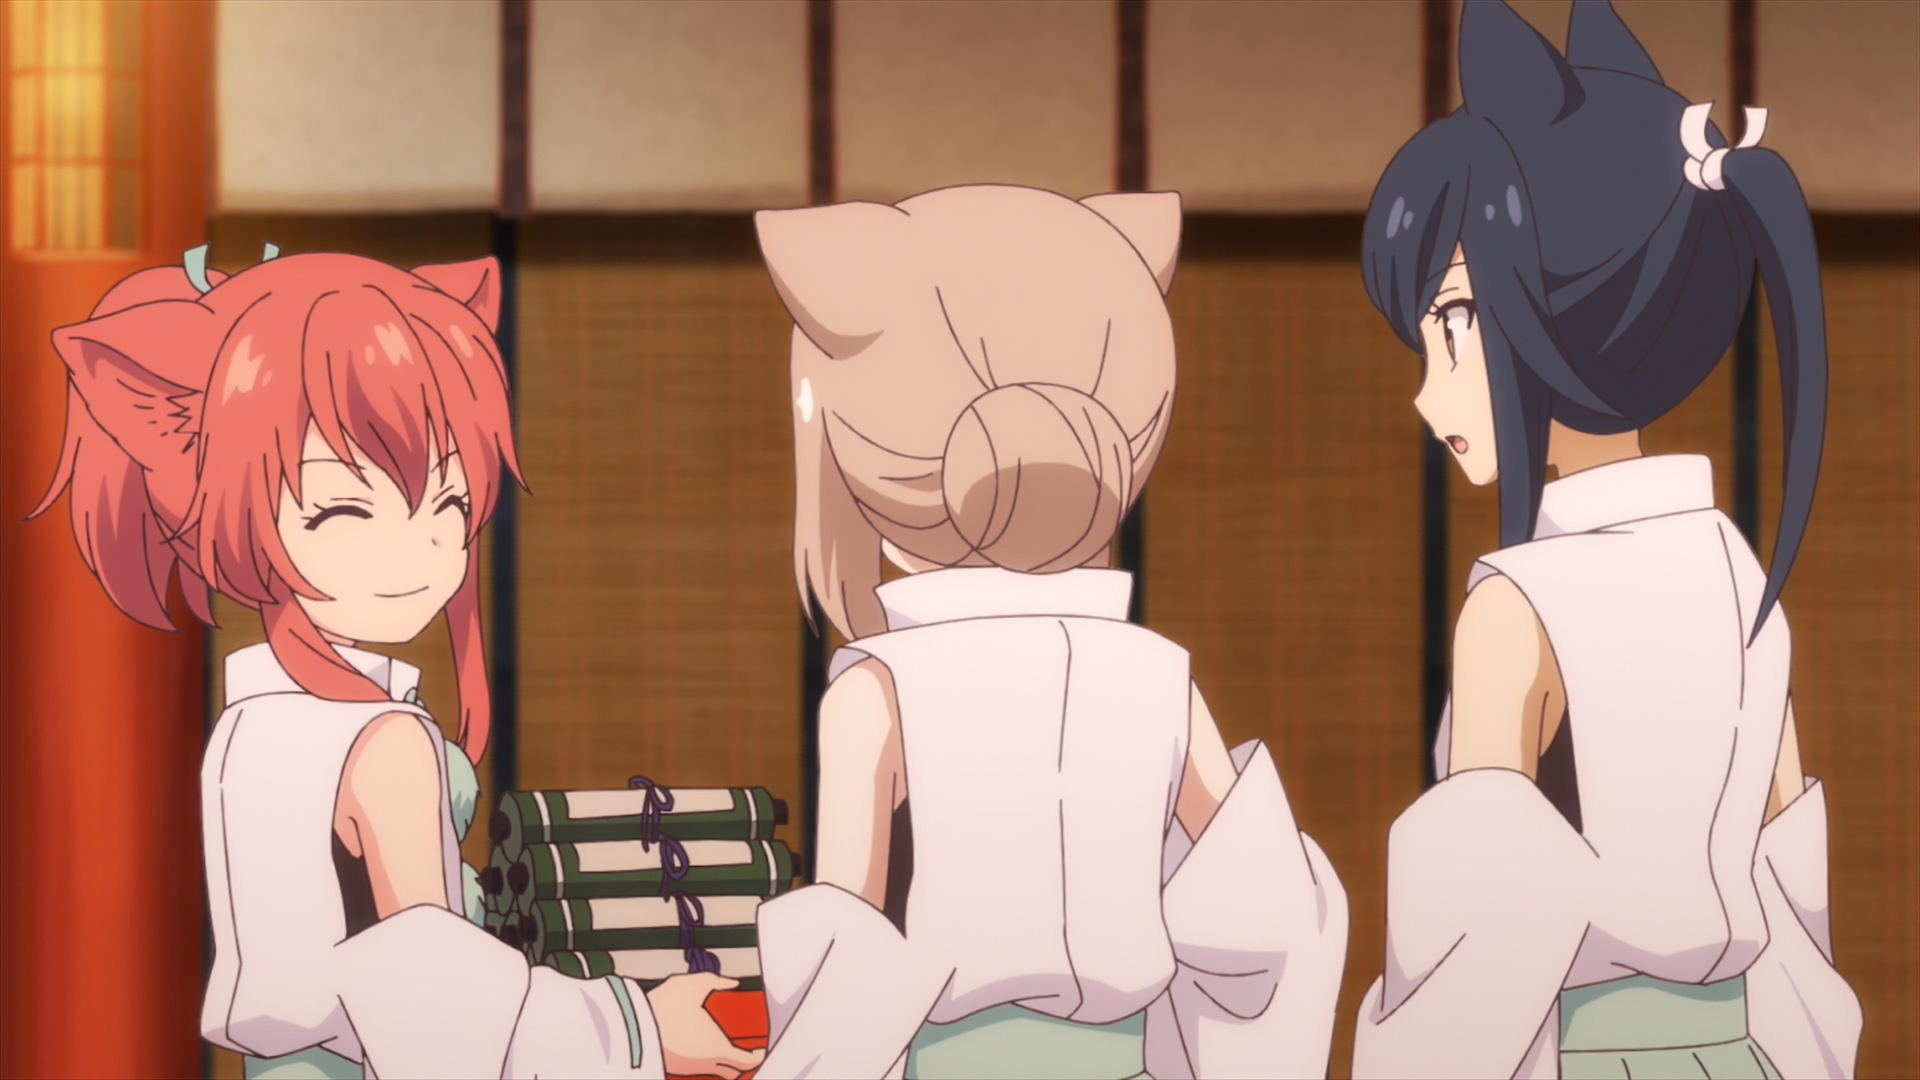其他: (1350, 1, 1863, 1080), (757, 185, 1349, 1080)
椿: (24, 243, 767, 1080)
